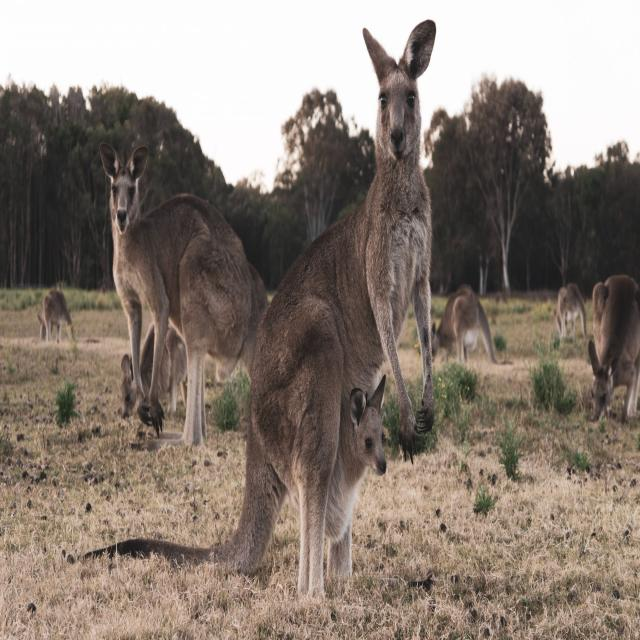Kangaroo: (69, 14, 441, 594), (90, 123, 260, 451)
